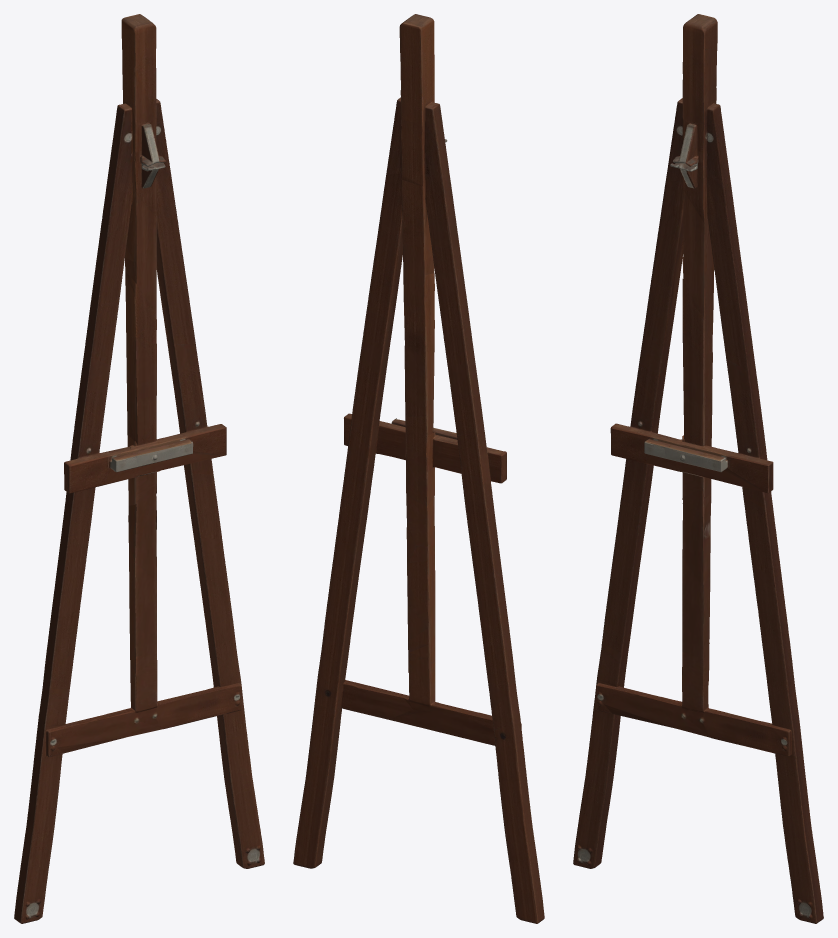
The model's file is easel.glb.
The picture shows the model from 3 angles, left to right: view 1: azimuth 30°, elevation 25°; view 2: azimuth 150°, elevation 25°; view 3: azimuth 330°, elevation 25°; orthographic projection.
Size of the model in its own units: 0.5588 by 1.9 by 0.1092.
1 material, 1 textured.
